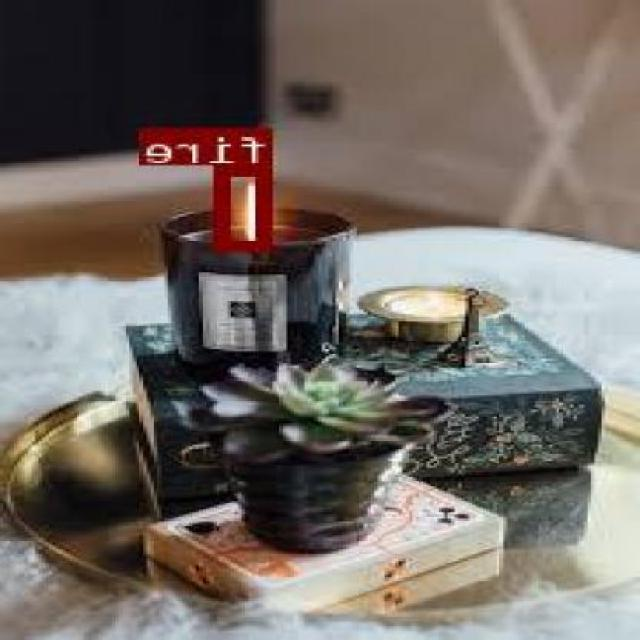fire: (217, 165, 275, 248)
